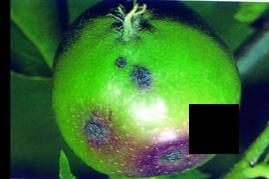rotten apple: (48, 1, 242, 177)
